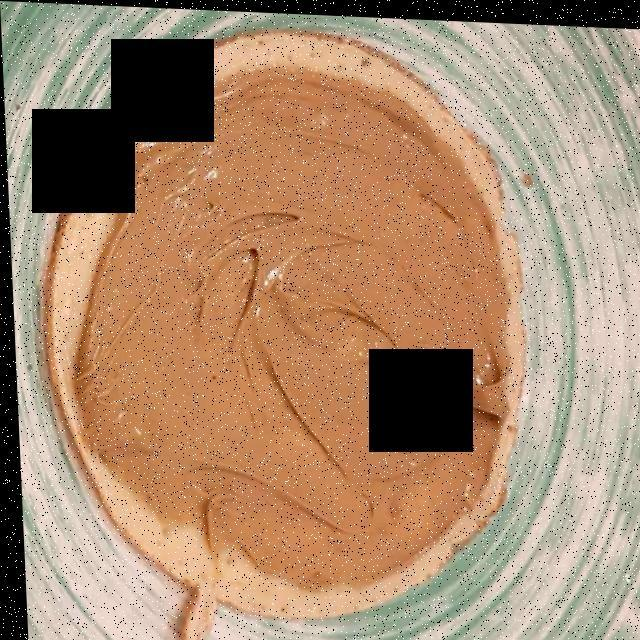butter: (86, 87, 500, 588)
crepe: (40, 37, 519, 609)
